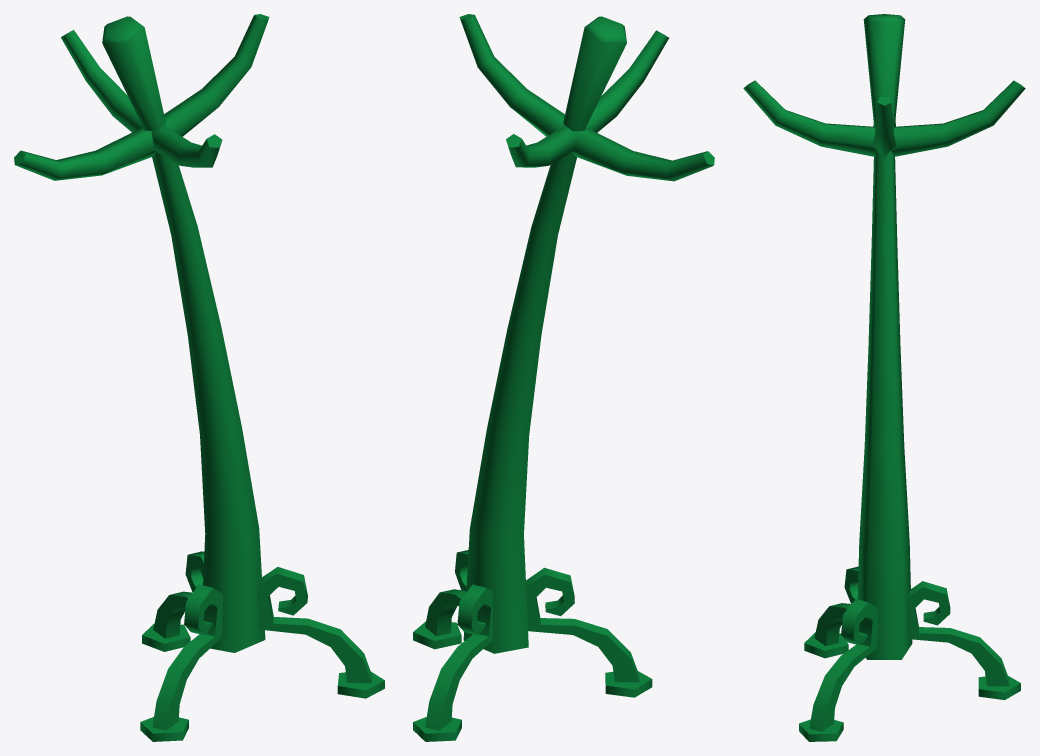
Rendered from CoatStand.FBX.
The picture shows the model from 3 angles, left to right: view 1: azimuth 30°, elevation 25°; view 2: azimuth 150°, elevation 25°; view 3: azimuth 270°, elevation 25°; orthographic projection. The views are drawn at different scales.
Parts seen in each view (by area): view 1: CoatStand; view 2: CoatStand; view 3: CoatStand.
Boxes of the visible parts, bbox=[...] form: CoatStand: bbox=[14, 14, 384, 741]; CoatStand: bbox=[413, 14, 714, 741]; CoatStand: bbox=[743, 14, 1025, 741].
Size of the model in its own units: 80.48 by 161 by 65.51.
